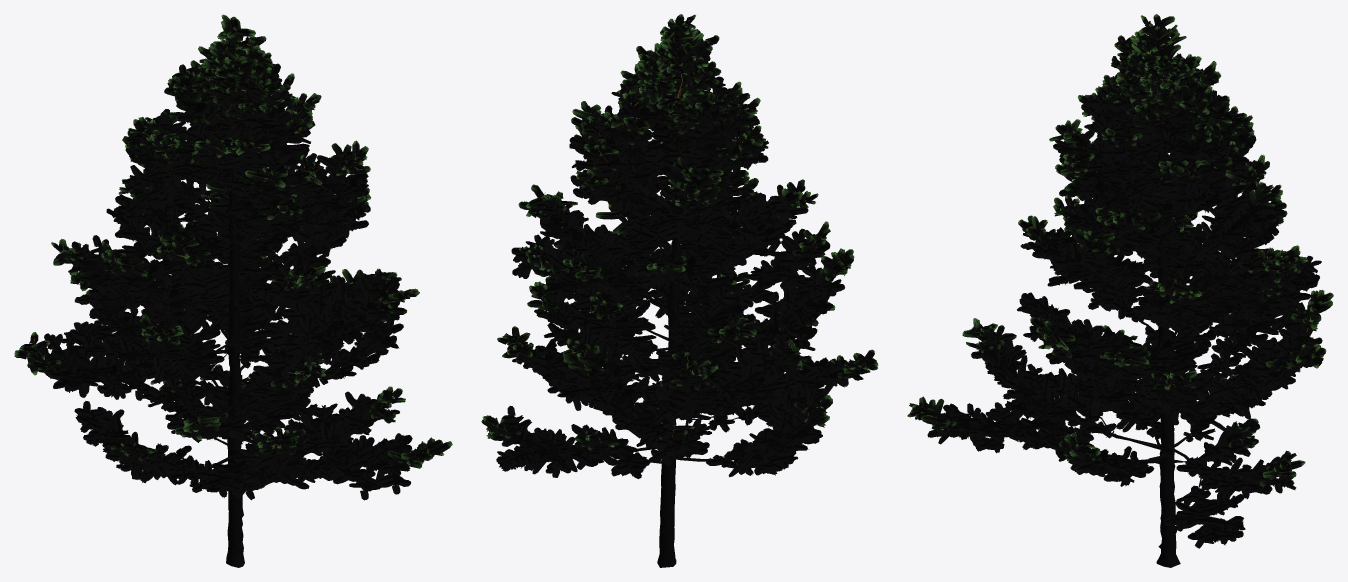
File: Tree1.fbx
3 views of the same model, side by side, from view 1: azimuth 30°, elevation 25°; view 2: azimuth 150°, elevation 25°; view 3: azimuth 270°, elevation 25° (orthographic).
Visible parts, largest first — view 1: bq_Tree_Larix-kaempferi_A_spring-summer-autumn; view 2: bq_Tree_Larix-kaempferi_A_spring-summer-autumn; view 3: bq_Tree_Larix-kaempferi_A_spring-summer-autumn.
Boxes of the visible parts, bbox=[...] form: bq_Tree_Larix-kaempferi_A_spring-summer-autumn: bbox=[14, 14, 452, 567]; bq_Tree_Larix-kaempferi_A_spring-summer-autumn: bbox=[481, 14, 878, 567]; bq_Tree_Larix-kaempferi_A_spring-summer-autumn: bbox=[907, 14, 1333, 567].
Size of the model in its own units: 8.99 by 9.25 by 13.05.
